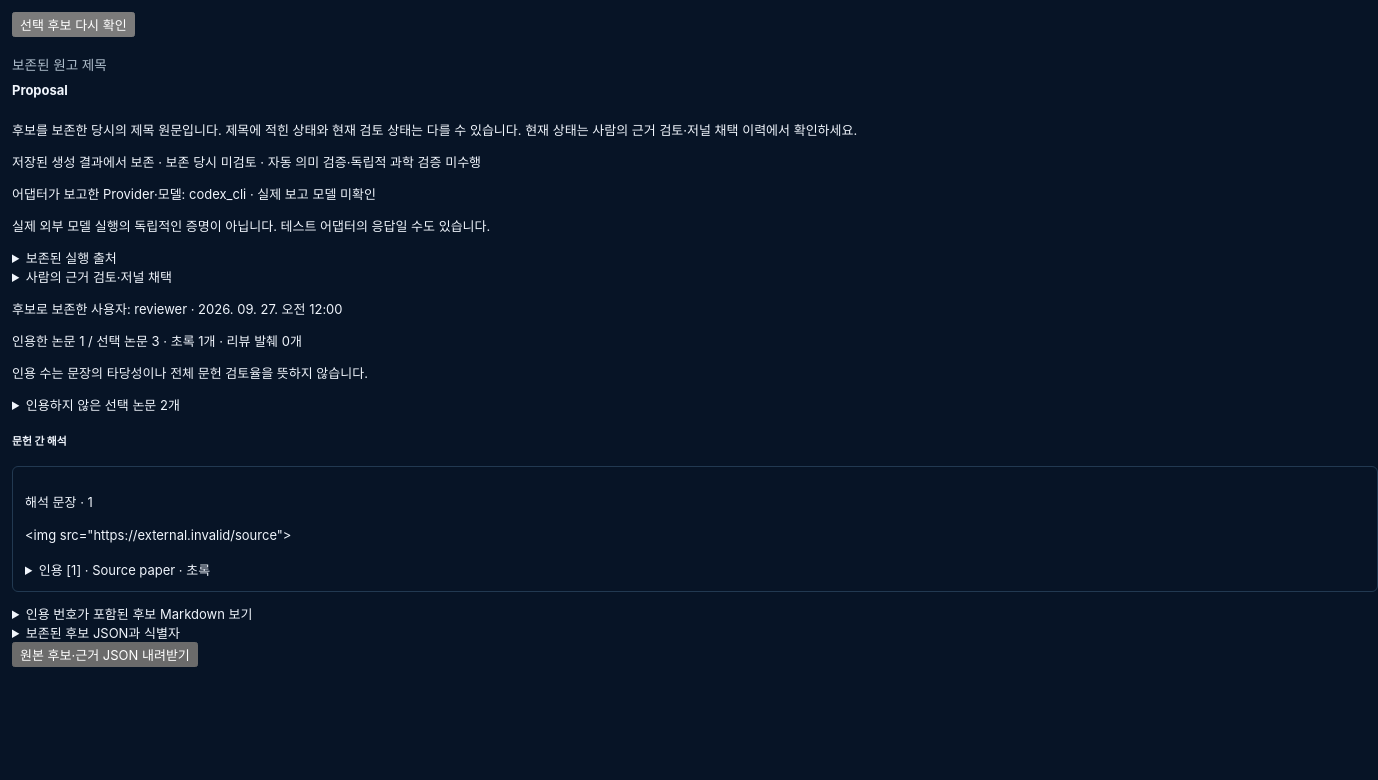
it: labels a generated candidate's unreported model without substituting its requested model
Expected: the text "어댑터가 보고한 Provider·모델: codex_cli · 실제 보고 모델 미확인" is shown, [12,186,376,202]
What coordinates should you click on to do the following:
click the heading "보존된 실행 출처"
I would click on:
 (71, 258)
Its box is [26,250,117,266].
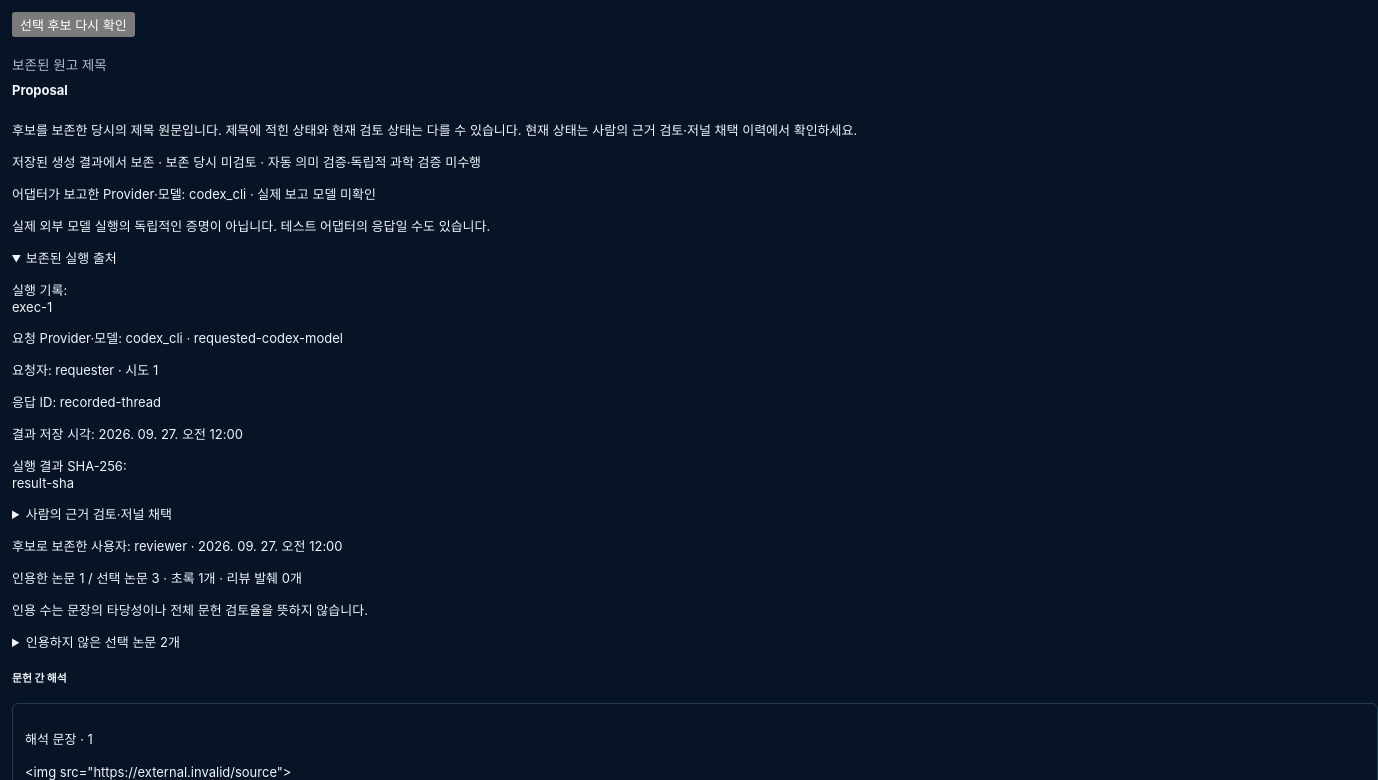
Now the text "요청 Provider·모델: codex_cli · requested-codex-model" is shown, box [12,330,343,346]
